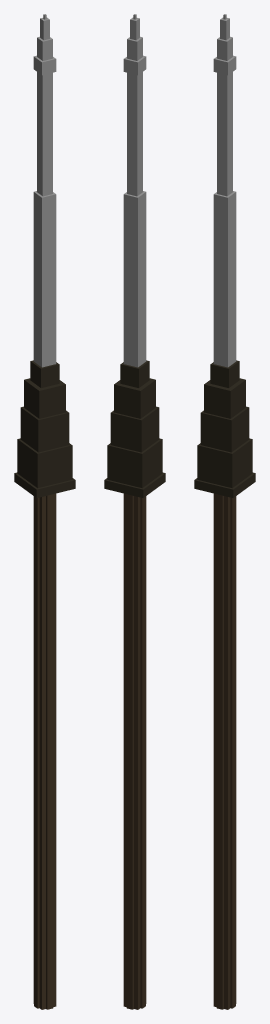
The model's file is Spear.fbx.
3 renders of one model, left to right at view 1: azimuth 30°, elevation 25°; view 2: azimuth 150°, elevation 25°; view 3: azimuth 330°, elevation 25°, orthographic.
Parts seen in each view (by area): view 1: SpearHandle, SpearHead, SpearJoint; view 2: SpearHandle, SpearHead, SpearJoint; view 3: SpearHandle, SpearHead, SpearJoint.
Part boxes in pixels (bbox=[...]): SpearHandle: bbox=[33, 493, 56, 1009]; SpearHead: bbox=[33, 14, 56, 367]; SpearJoint: bbox=[14, 360, 75, 497]; SpearHandle: bbox=[123, 493, 146, 1009]; SpearHead: bbox=[123, 14, 146, 367]; SpearJoint: bbox=[104, 360, 165, 497]; SpearHandle: bbox=[213, 493, 236, 1009]; SpearHead: bbox=[213, 14, 236, 367]; SpearJoint: bbox=[194, 360, 255, 497].
Bounding box in the file's own units: 0.0579 × 0.0579 × 1.4.
